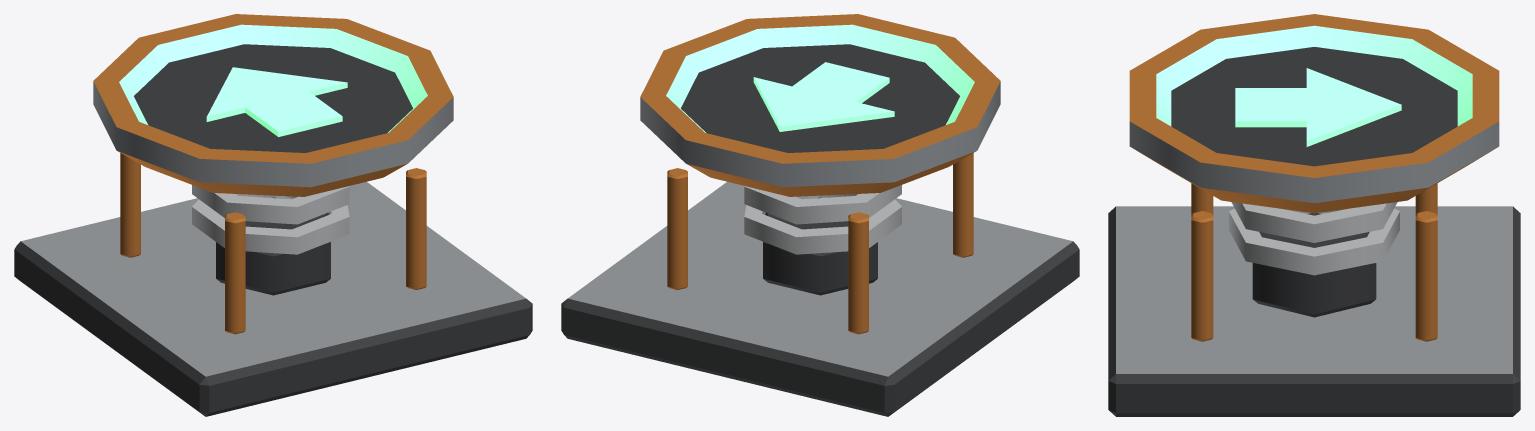
File: R4X_JumpPadDeployer_LOD1.fbx
3 views of the same model, side by side, from view 1: azimuth 30°, elevation 25°; view 2: azimuth 150°, elevation 25°; view 3: azimuth 270°, elevation 25° (orthographic). The views are drawn at different scales.
Visible parts, largest first — view 1: R4X_JumpPadDeployer_LOD1; view 2: R4X_JumpPadDeployer_LOD1; view 3: R4X_JumpPadDeployer_LOD1.
Boxes of the visible parts, <box> form: R4X_JumpPadDeployer_LOD1: <box>14,14,532,416</box>; R4X_JumpPadDeployer_LOD1: <box>561,14,1079,416</box>; R4X_JumpPadDeployer_LOD1: <box>1108,14,1520,416</box>.
Size of the model in its own units: 0.52 by 0.33 by 0.52.
